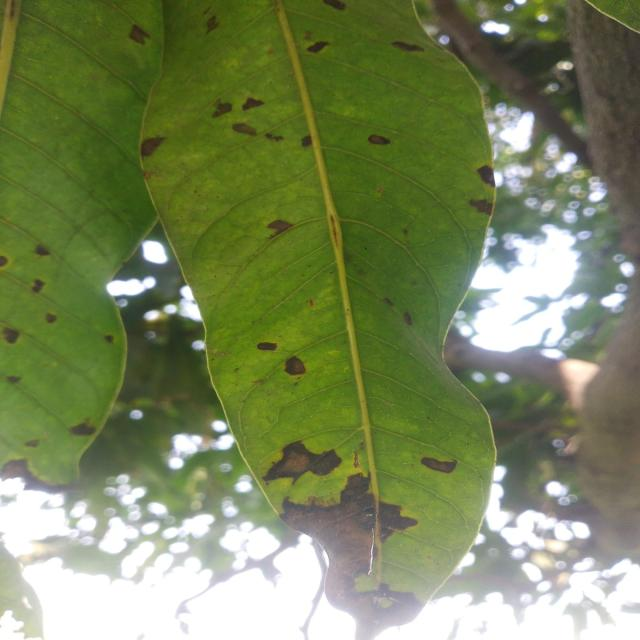Anthracnose: (271, 445, 460, 640), (263, 441, 342, 482), (228, 82, 275, 124), (134, 129, 169, 160), (419, 452, 459, 476), (262, 212, 295, 240), (68, 416, 98, 444), (476, 162, 501, 191), (125, 22, 153, 47), (305, 36, 331, 57), (0, 323, 22, 347), (468, 196, 494, 216), (200, 13, 223, 35), (231, 120, 259, 136), (285, 355, 306, 376), (32, 241, 52, 262), (391, 40, 424, 52), (29, 276, 47, 295), (212, 100, 232, 117), (400, 310, 416, 328), (367, 134, 391, 145), (264, 132, 284, 144), (323, 0, 346, 10), (43, 311, 59, 325), (257, 341, 278, 351), (382, 295, 396, 308), (102, 333, 116, 345), (301, 134, 311, 147), (0, 255, 9, 267)
